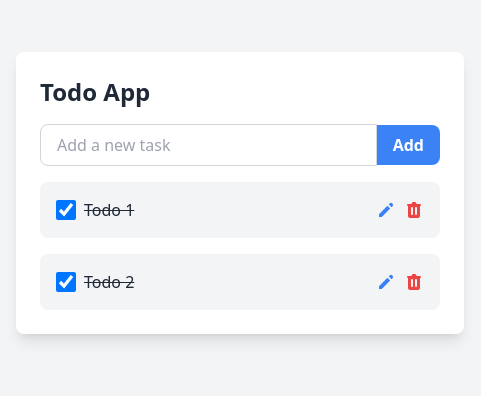
it: TodoAppコンポーネントのテストケース › Todoを編集する
The image size is (481, 396).
Type "edit task" into the field with placeholder "Add a new task" at (208, 145), box [40, 124, 377, 166]
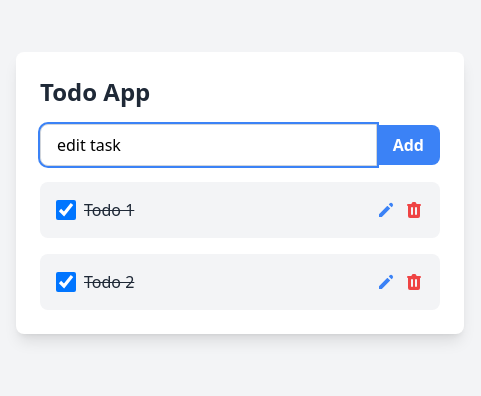
Click the button "Add" at (408, 145), box [377, 125, 440, 165]
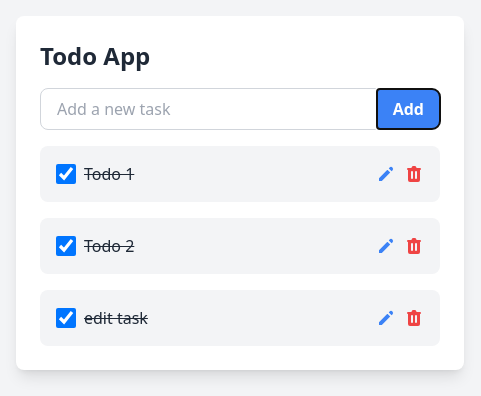
Expected: the text "edit task" is shown, [84, 306, 148, 330]
Click the button named "Edit" in the row of "edit task" at (386, 318), box [376, 308, 396, 328]
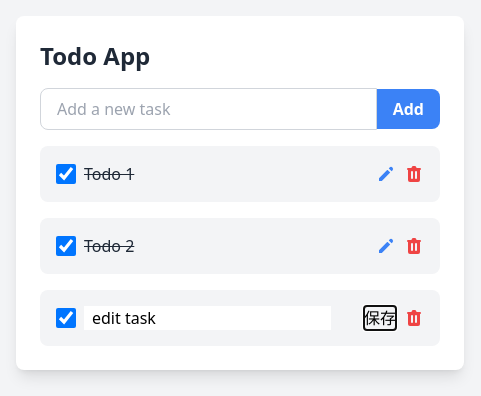
編集フォームに入力する
Replace the text in the field showing "edit task" with "編集後のタスク" at (208, 318), box [84, 306, 331, 330]
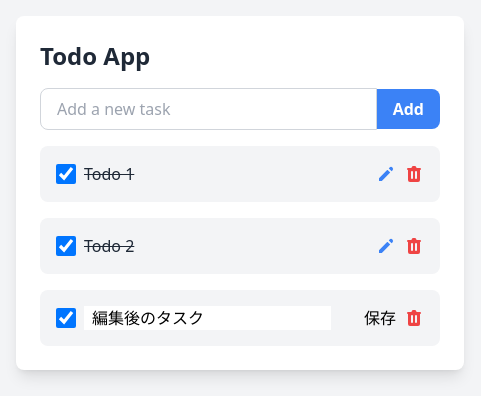
保存ボタンをクリックする
Click the button "保存" at (380, 318), box [364, 306, 396, 330]
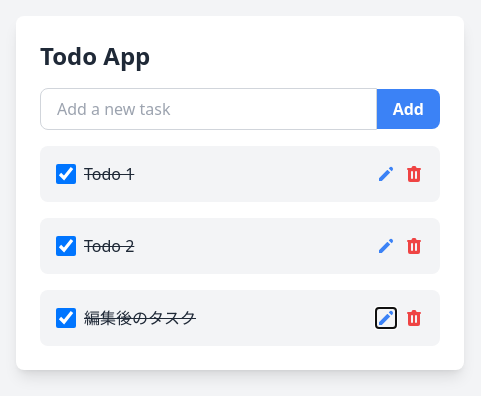
Expected: the text "編集後のタスク" is shown, [84, 306, 196, 330]
